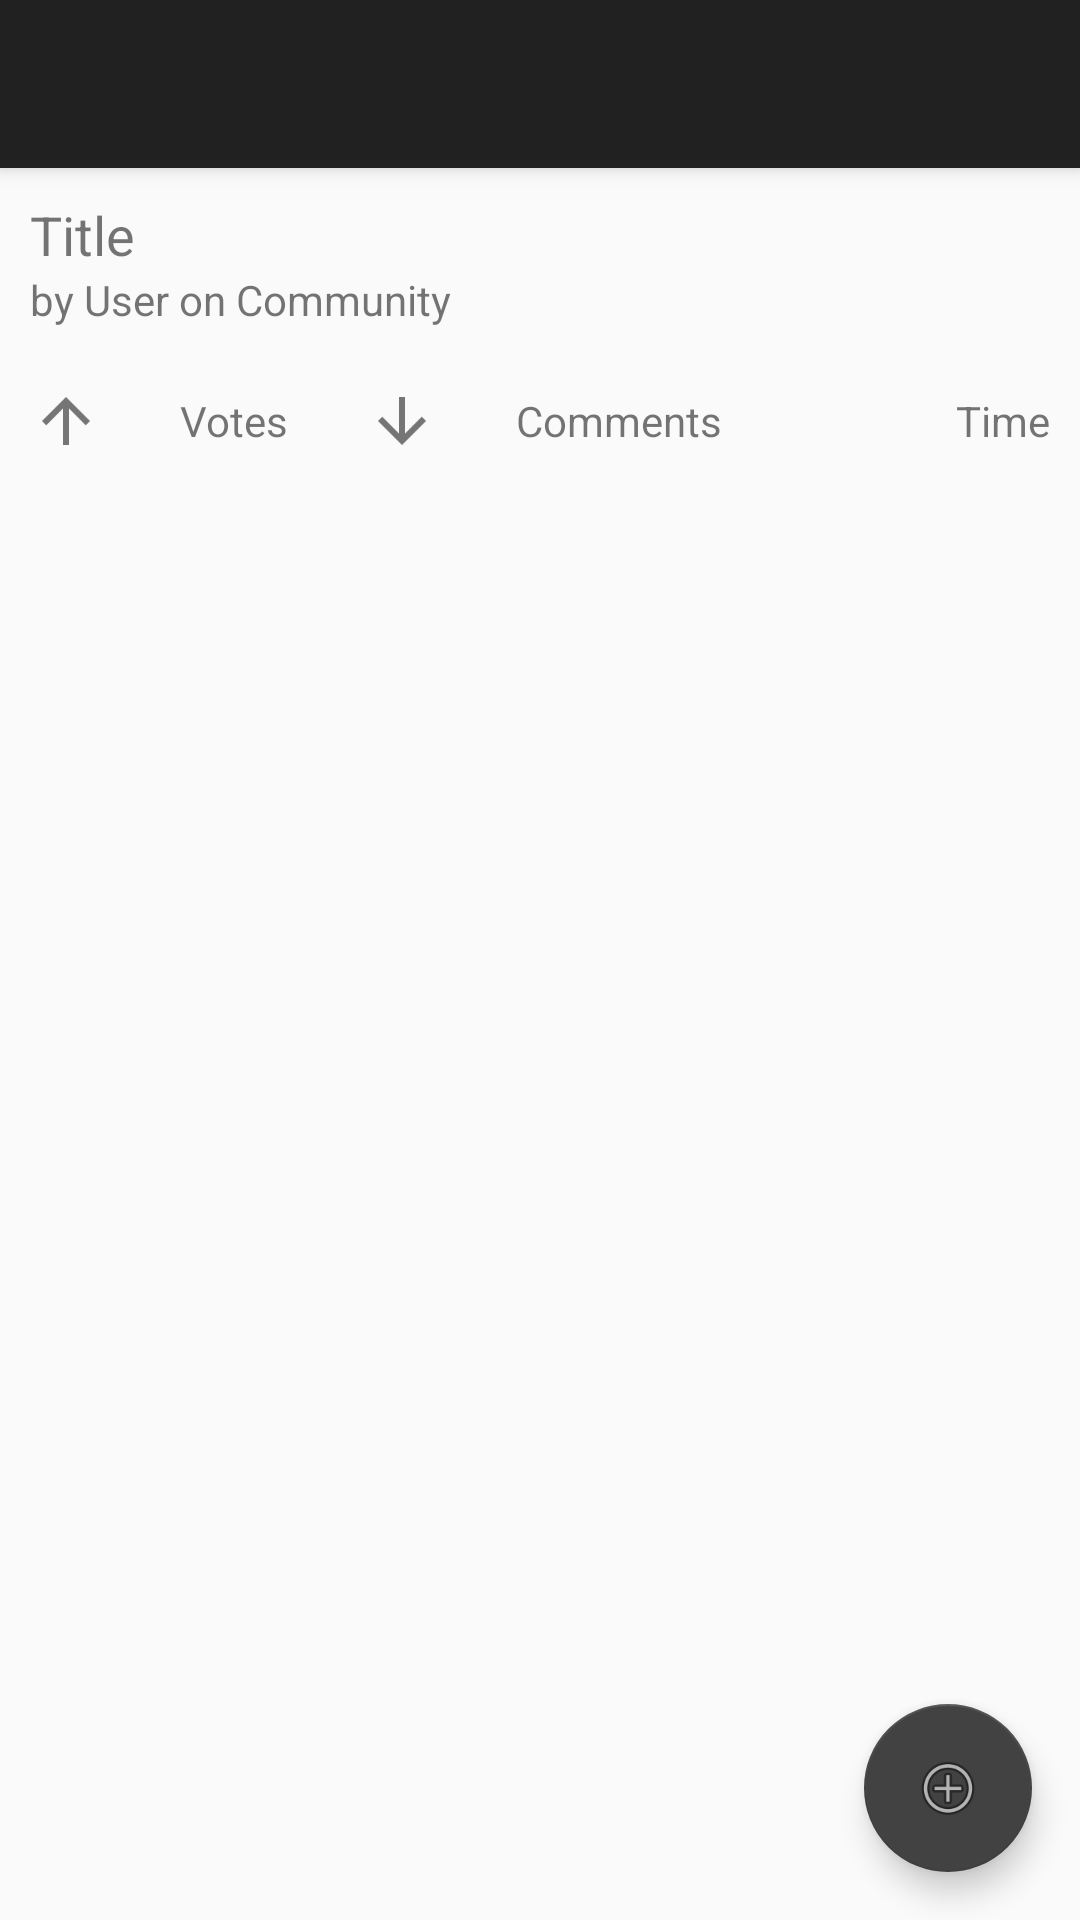

Icon click points for this 1080 × 1920 phone screenshot, format [x,y]:
add: [948,1788]
arrow downward: [402,421]
arrow upward: [66,421]
